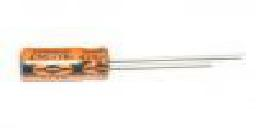Electrolytic Capacitor: (10, 44, 255, 86)
